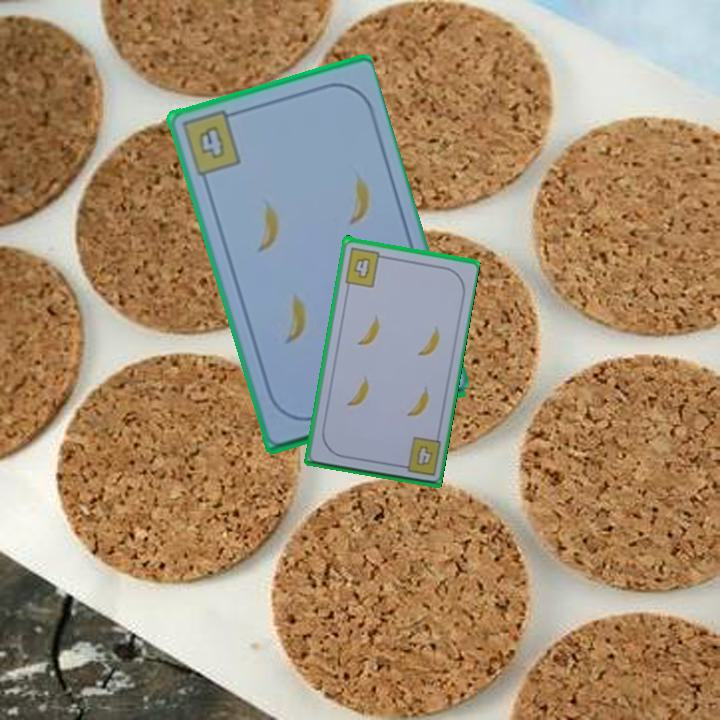4b: (177, 107, 244, 179), (341, 243, 389, 289), (413, 442, 436, 467)
